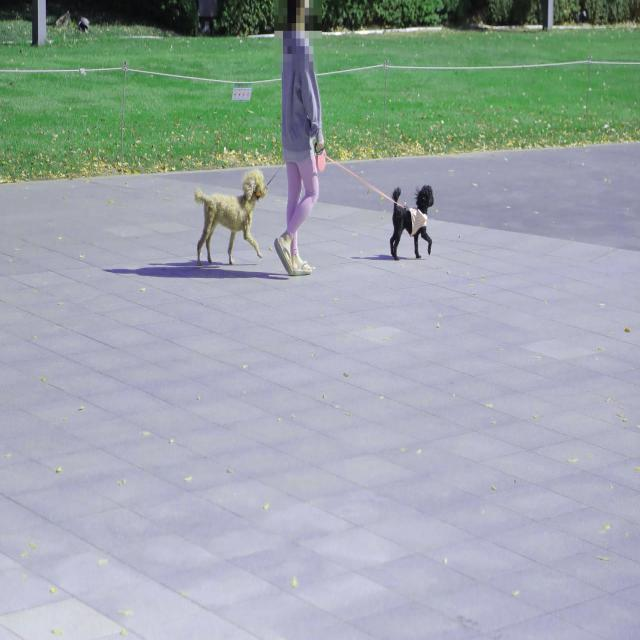Leashed_Dog: (299, 139, 434, 260), (193, 140, 296, 270)
